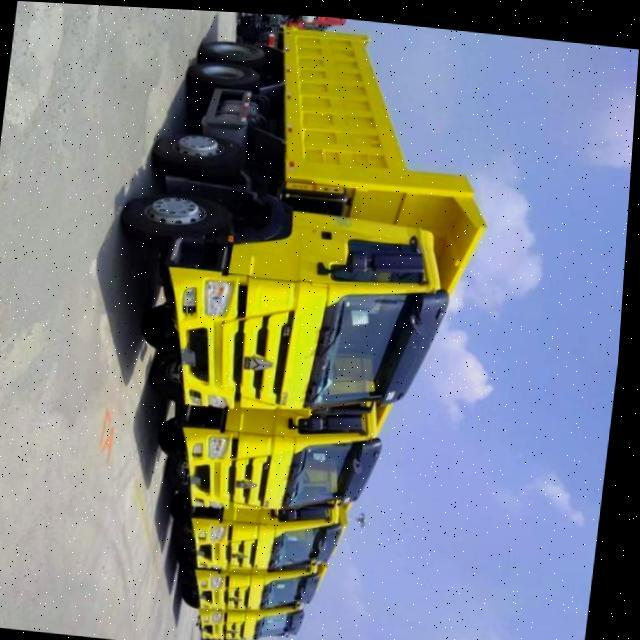truck: (111, 9, 510, 428), (146, 378, 404, 531), (185, 491, 364, 579), (193, 558, 336, 620), (194, 595, 325, 640)
